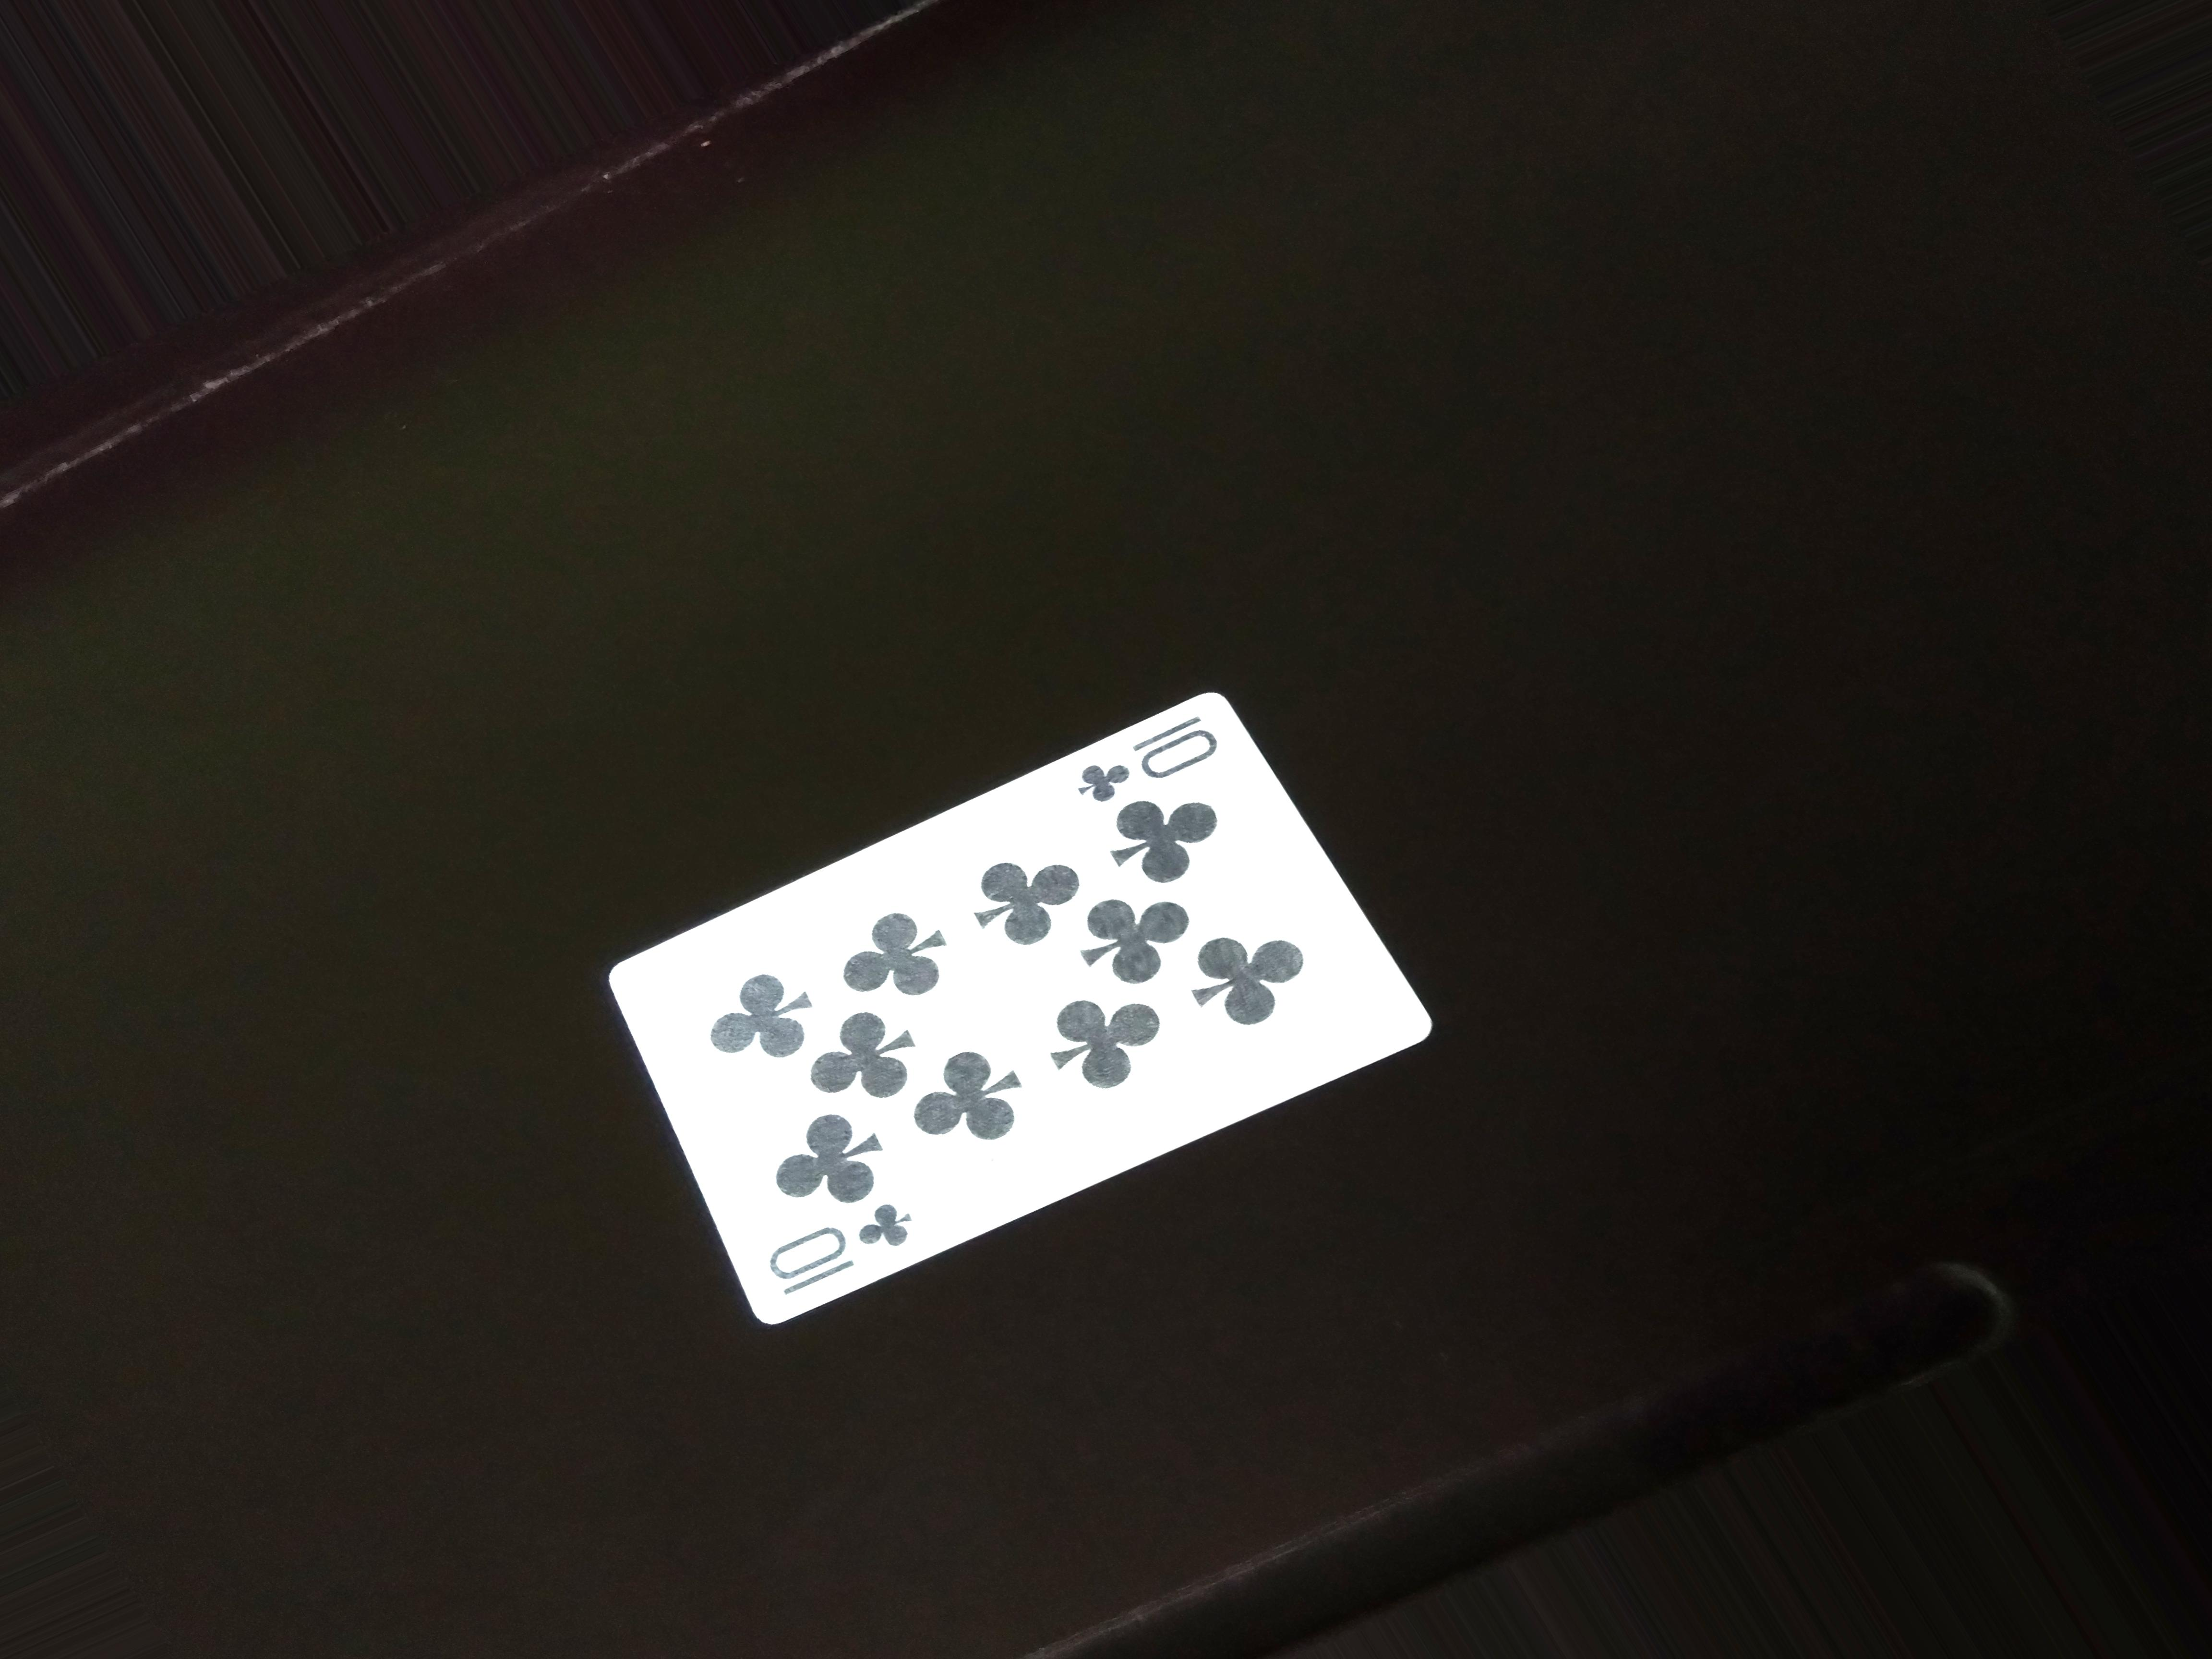10C: (765, 1208, 921, 1300)
